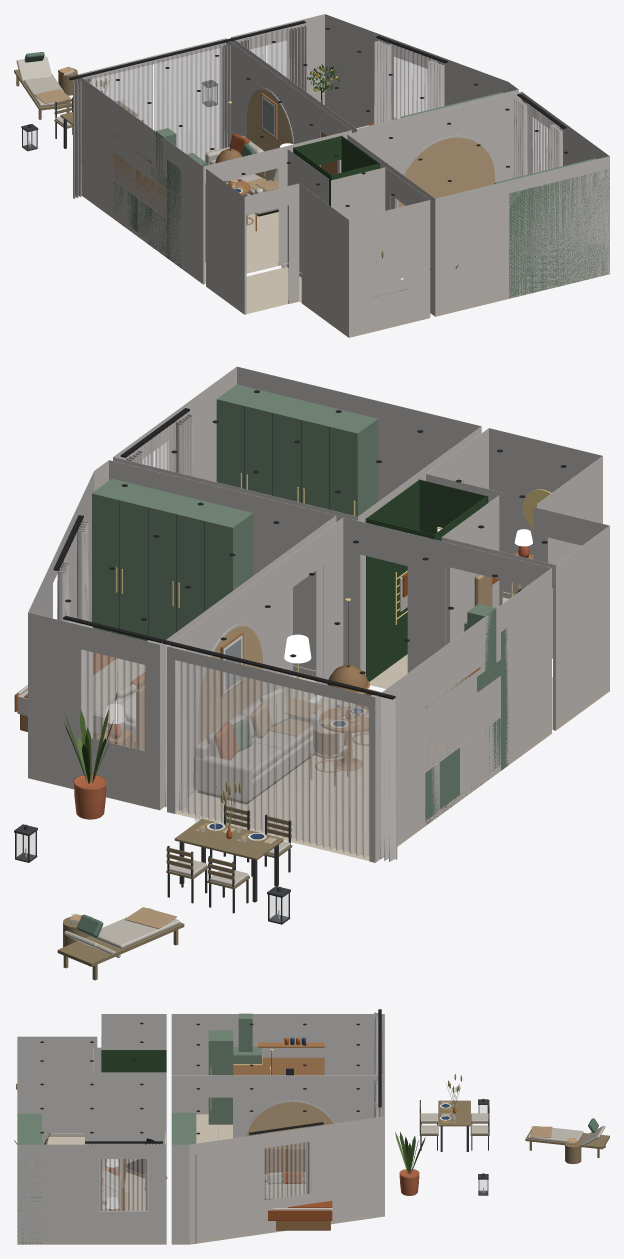
The model's file is unit-0.B-riviera.glb.
The picture shows the model from 3 angles, top to bottom: view 1: azimuth 30°, elevation 25°; view 2: azimuth 150°, elevation 25°; view 3: azimuth 270°, elevation 25°; orthographic projection. The views are drawn at different scales.
Parts seen in each view (by area): view 1: int-wall, int-sheer, int-joineryTall, int-curtain, int-feature, int-skirting, int-bathWall, int-floor, int-hallFloor, int-joinery, int-matteBlack, int-outCushion (+6 smaller); view 2: int-wall, int-joineryTall, int-sheer, int-floor, int-curtain, int-bathWall, int-teak, int-sofa, int-joinery, int-feature, int-outdoor, int-wood (+13 smaller); view 3: int-wall, int-sheer, int-joineryTall, int-teak, int-feature, int-headboard, int-bathWall, int-skirting, int-splash, int-floor, int-outCushion, int-curtain (+8 smaller).
Boxes of the visible parts, left/top/right/bottom form: int-wall: left=77, top=14, right=609, bottom=333; int-sheer: left=84, top=27, right=559, bottom=174; int-joineryTall: left=167, top=92, right=609, bottom=298; int-curtain: left=73, top=25, right=563, bottom=198; int-feature: left=247, top=89, right=494, bottom=207; int-skirting: left=81, top=192, right=609, bottom=337; int-bathWall: left=293, top=135, right=380, bottom=206; int-floor: left=205, top=212, right=278, bottom=283; int-hallFloor: left=246, top=267, right=301, bottom=313; int-joinery: left=113, top=128, right=176, bottom=252; int-matteBlack: left=69, top=20, right=566, bottom=256; int-outCushion: left=16, top=56, right=72, bottom=126; int-wall: left=28, top=366, right=609, bottom=857; int-joineryTall: left=92, top=384, right=509, bottom=770; int-sheer: left=57, top=420, right=369, bottom=857; int-floor: left=175, top=671, right=381, bottom=860; int-curtain: left=57, top=414, right=397, bottom=861; int-bathWall: left=365, top=479, right=488, bottom=681; int-teak: left=57, top=806, right=292, bottom=980; int-sofa: left=193, top=691, right=321, bottom=801; int-joinery: left=425, top=604, right=504, bottom=819; int-feature: left=198, top=626, right=263, bottom=743; int-outdoor: left=14, top=804, right=290, bottom=924; int-wood: left=97, top=552, right=533, bottom=770; int-wall: left=17, top=1014, right=384, bottom=1241; int-sheer: left=99, top=1019, right=382, bottom=1210; int-joineryTall: left=17, top=1030, right=233, bottom=1244; int-teak: left=419, top=1100, right=609, bottom=1164; int-feature: left=246, top=1102, right=333, bottom=1148; int-headboard: left=121, top=1148, right=330, bottom=1230; int-bathWall: left=101, top=1050, right=166, bottom=1072; int-skirting: left=17, top=1111, right=384, bottom=1244; int-splash: left=233, top=1057, right=324, bottom=1075; int-floor: left=119, top=1114, right=232, bottom=1210; int-outCushion: left=420, top=1113, right=605, bottom=1147; int-curtain: left=85, top=1012, right=379, bottom=1210.
Size of the model in its own units: 7.77 by 2.82 by 14.51.
